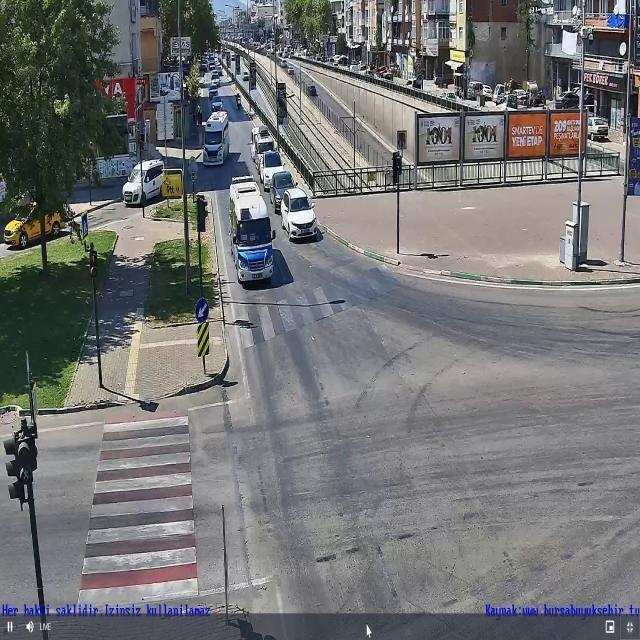Bus: (227, 176, 275, 284), (202, 111, 230, 166)
Car: (280, 189, 317, 240)
Van: (121, 160, 166, 206)
